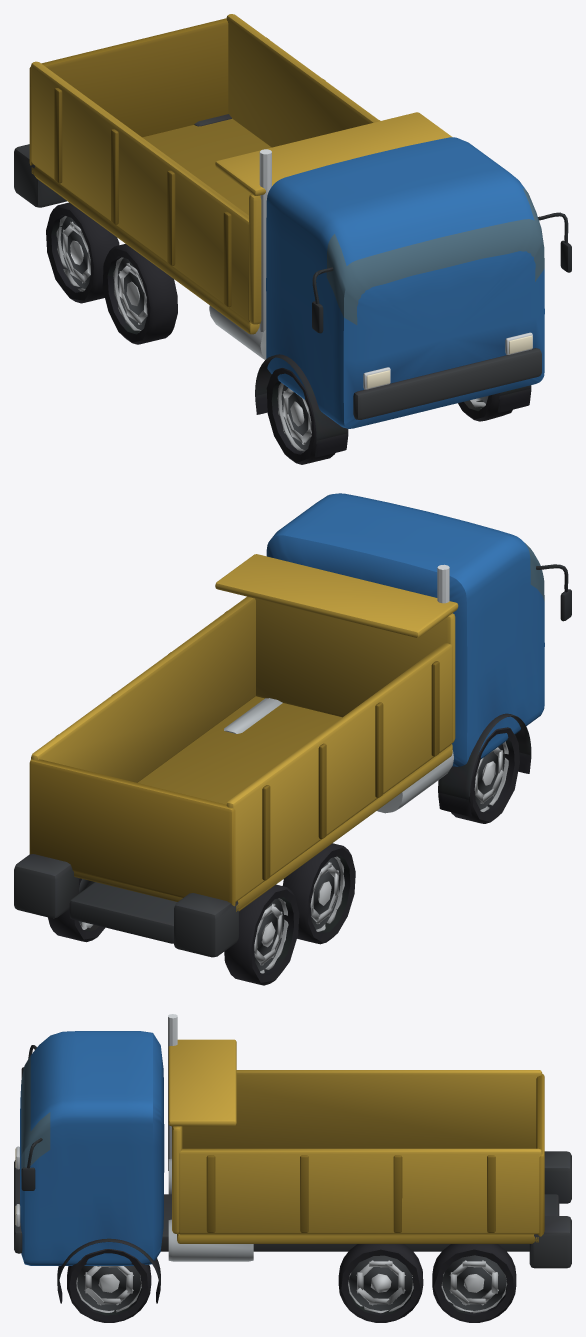
The model's file is veh-dumpTruck.glb.
3 views of the same model, one above another, from view 1: azimuth 30°, elevation 25°; view 2: azimuth 150°, elevation 25°; view 3: azimuth 270°, elevation 25° (orthographic). The views are drawn at different scales.
Visible parts, largest first — view 1: body, bed, wheel3, wheel5, wheel1, wheel0; view 2: bed, body, wheel5, wheel3, wheel1, wheel4; view 3: bed, body, wheel2, wheel4, wheel0.
Boxes of the visible parts, x1,y1,x2,y2 form: body: (14, 114, 571, 457); bed: (29, 14, 452, 334); wheel3: (102, 244, 177, 344); wheel5: (46, 202, 119, 303); wheel1: (266, 368, 335, 464); wheel0: (458, 393, 512, 421); bed: (29, 554, 458, 911); body: (14, 493, 571, 957); wheel5: (224, 884, 299, 985); wheel3: (282, 843, 355, 944); wheel1: (451, 727, 519, 823); wheel4: (48, 878, 105, 942); bed: (168, 1039, 544, 1243); body: (14, 1014, 571, 1303); wheel2: (338, 1244, 423, 1322); wheel4: (432, 1244, 516, 1322); wheel0: (67, 1249, 151, 1322).
Bounding box in the file's own units: 2.88 × 2.99 × 6.57.
